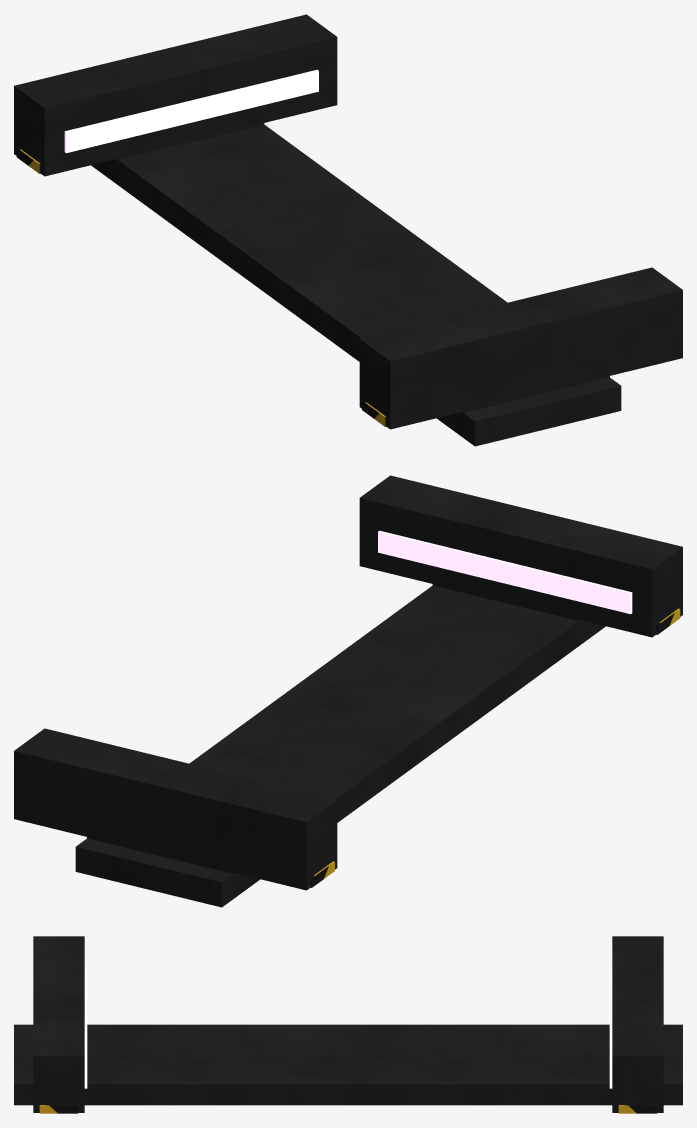
Rendered from CatapultClamp.gltf.
3 views of the same model, one above another, from view 1: azimuth 30°, elevation 25°; view 2: azimuth 150°, elevation 25°; view 3: azimuth 270°, elevation 25° (orthographic). The views are drawn at different scales.
Parts seen in each view (by area): view 1: CatapultClamp; view 2: CatapultClamp; view 3: CatapultClamp.
Part boxes in pixels (bbox=[...]): CatapultClamp: bbox=[14, 14, 682, 446]; CatapultClamp: bbox=[14, 475, 682, 907]; CatapultClamp: bbox=[14, 936, 682, 1113].
Size of the model in its own units: 2.22 by 0.68 by 5.2.
Materials: 3 (3 with a texture image).
